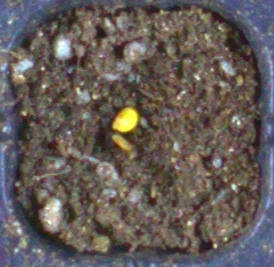pepper seed: (41, 56, 180, 208), (42, 40, 181, 173)
